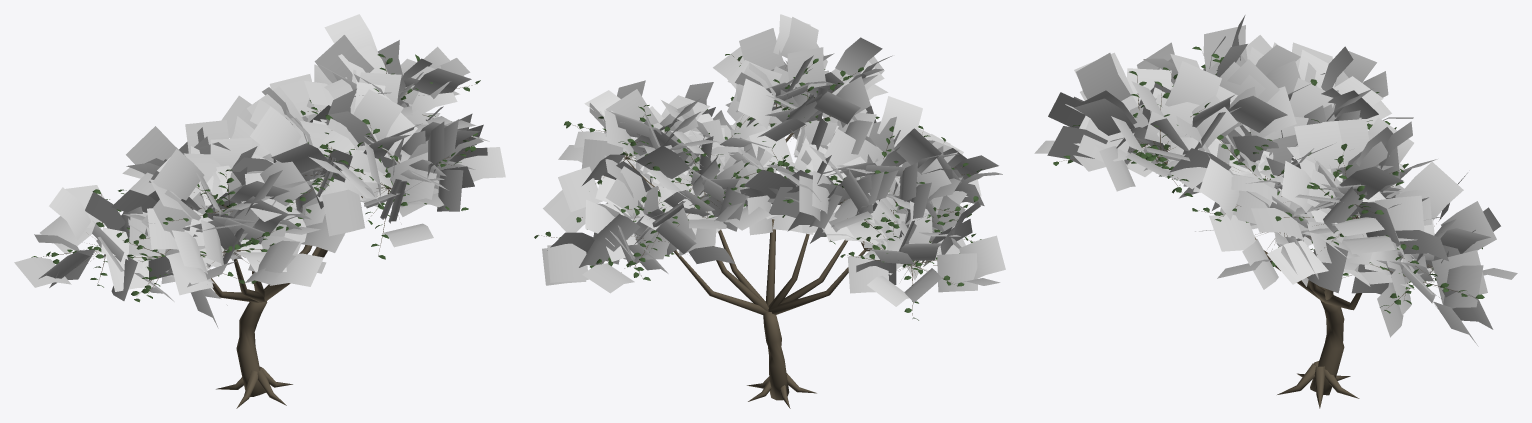
The model's file is CheneVert_Etale_LOD0.fbx.
3 views of the same model, side by side, from view 1: azimuth 30°, elevation 25°; view 2: azimuth 150°, elevation 25°; view 3: azimuth 270°, elevation 25° (orthographic). The views are drawn at different scales.
Parts seen in each view (by area): view 1: CheneVert_Etale; view 2: CheneVert_Etale; view 3: CheneVert_Etale.
Part boxes in pixels (left/top/right/bottom): CheneVert_Etale: left=14, top=14, right=505, bottom=408; CheneVert_Etale: left=534, top=14, right=1005, bottom=408; CheneVert_Etale: left=1034, top=15, right=1517, bottom=408.
Size of the model in its own units: 831 by 559 by 702.
